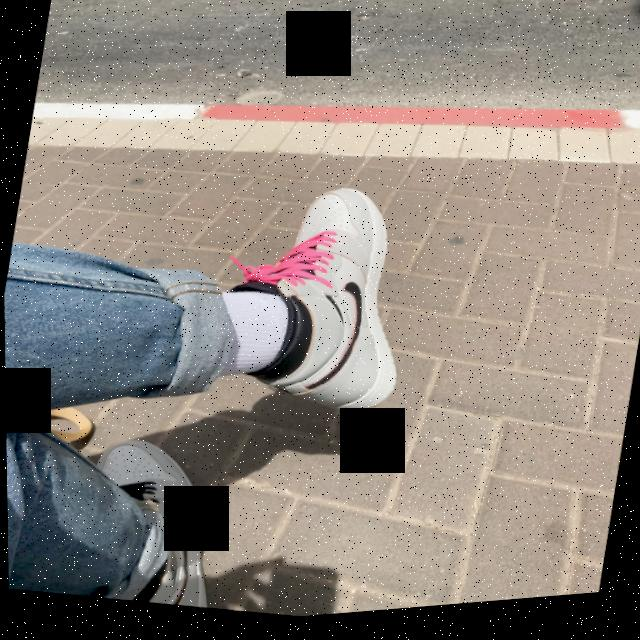shoe: (200, 164, 437, 452)
